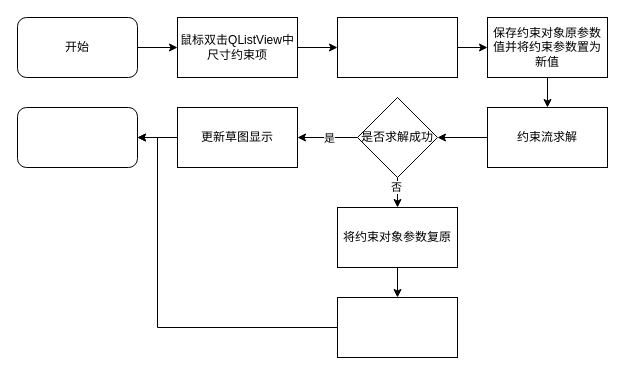
The diagram is 625 pixels wide and 375 high, and some of its shapes have lost their labels. The centre of each missing label's shape, as x and y in pixels:
"弹出对话框设置新的约束值" goes at point (397, 47).
"报告错误信息" goes at point (397, 327).
"结束" goes at point (77, 137).
